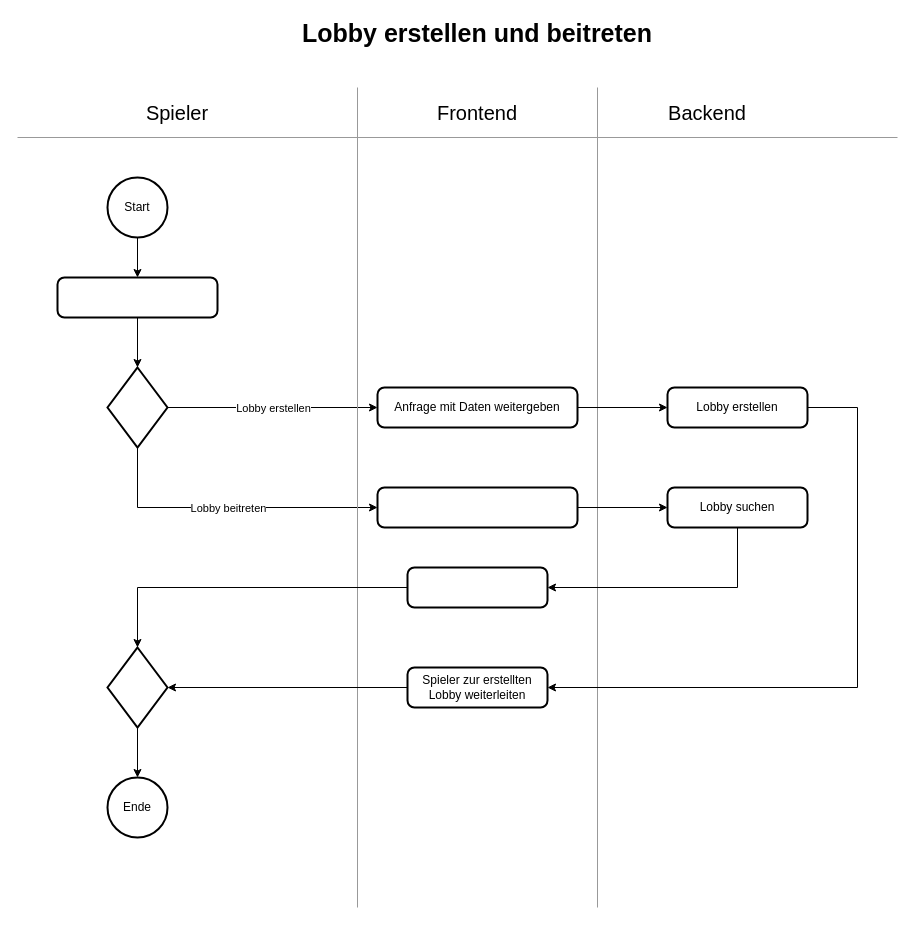
Some shapes in this 915 by 925 pixel diagram are drawn without their labels. The box of each missing label's shape, as (x1, y1, x2, y2) in pixels:
Anfrage mit Lobbycode weitergeben: (376, 486, 578, 528)
Auswahl der Spielmethode: (56, 276, 218, 318)
Spieler zur bestehenden Lobby weiterleiten: (406, 566, 548, 608)
